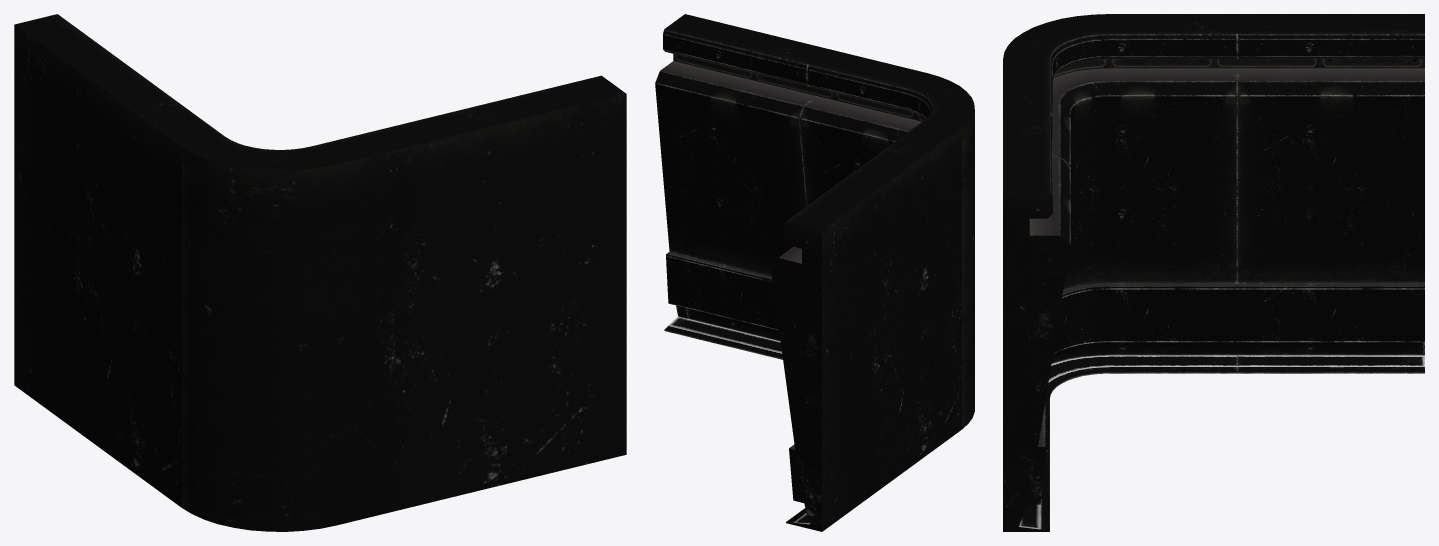
Rendered from SM_Wall_Corner_B.FBX.
The picture shows the model from 3 angles, left to right: view 1: azimuth 30°, elevation 25°; view 2: azimuth 150°, elevation 25°; view 3: azimuth 270°, elevation 25°; orthographic projection. The views are drawn at different scales.
Parts seen in each view (by area): view 1: SM_Wall_Corner_B; view 2: SM_Wall_Corner_B; view 3: SM_Wall_Corner_B.
Boxes of the visible parts, bbox=[...] form: SM_Wall_Corner_B: bbox=[14, 14, 626, 531]; SM_Wall_Corner_B: bbox=[655, 14, 974, 531]; SM_Wall_Corner_B: bbox=[1003, 14, 1424, 531].
Size of the model in its own units: 450 by 400 by 450.
Materials: 1 (1 with a texture image).
